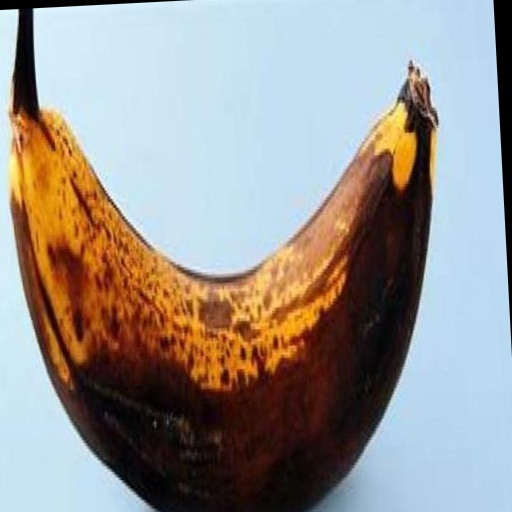fruit: (9, 9, 436, 512)
